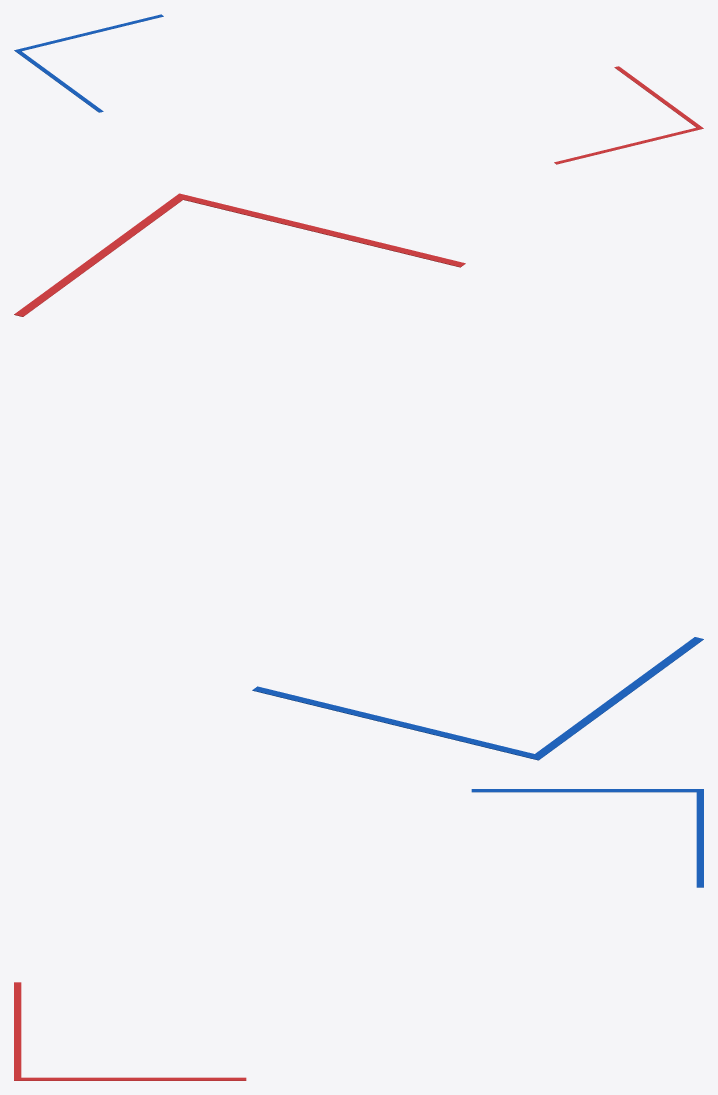
3 renders of one model, top to bottom at view 1: azimuth 30°, elevation 25°; view 2: azimuth 150°, elevation 25°; view 3: azimuth 270°, elevation 25°, orthographic. The views are drawn at different scales.
Size of the model in its own units: 93.44 by 0.05 by 93.44.
Materials: 2 (2 with a texture image).
